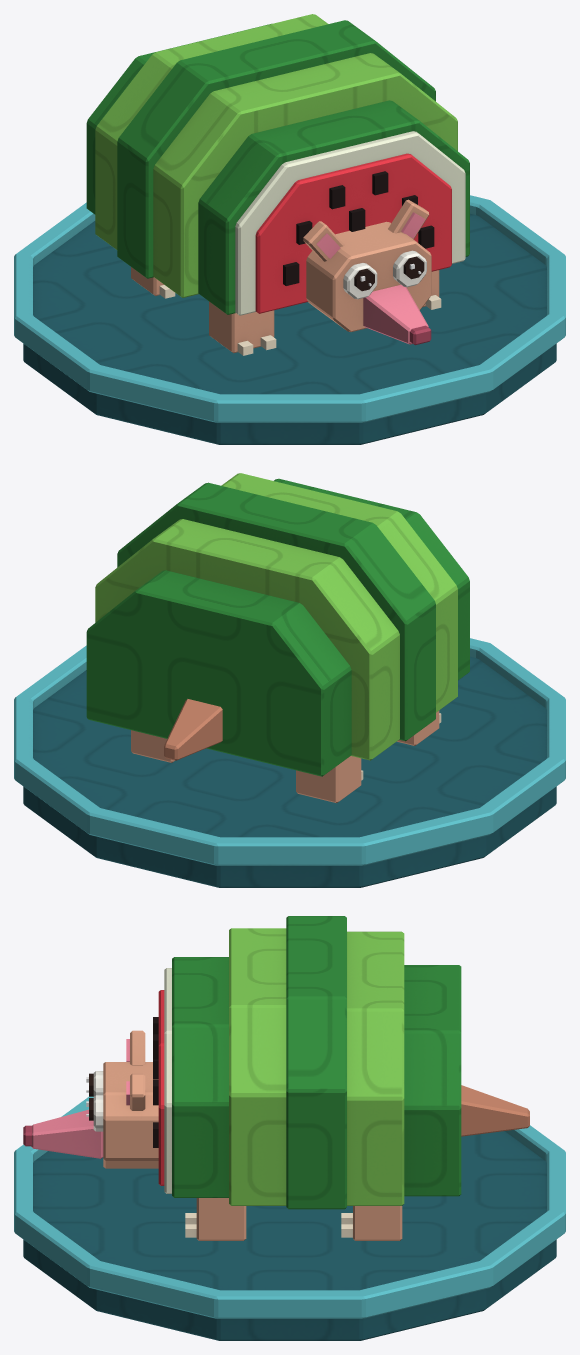
Rendered from MelonArmadillo.fbx.
The picture shows the model from 3 angles, top to bottom: view 1: azimuth 30°, elevation 25°; view 2: azimuth 150°, elevation 25°; view 3: azimuth 270°, elevation 25°; orthographic projection.
Visible parts, largest first — view 1: Art_MelonArmadillo_Body, Art_MelonArmadillo_Stand, Art_MelonArmadillo_Head, Art_MelonArmadillo_LegFL, Art_MelonArmadillo_LegBL; view 2: Art_MelonArmadillo_Body, Art_MelonArmadillo_Stand, Art_MelonArmadillo_Tail, Art_MelonArmadillo_LegBL, Art_MelonArmadillo_LegBR; view 3: Art_MelonArmadillo_Body, Art_MelonArmadillo_Stand, Art_MelonArmadillo_Head, Art_MelonArmadillo_Tail, Art_MelonArmadillo_LegFR, Art_MelonArmadillo_LegBR.
Boxes of the visible parts, x1=… form: Art_MelonArmadillo_Body: x1=86, y1=14, x2=469, y2=315; Art_MelonArmadillo_Stand: x1=14, y1=195, x2=565, y2=444; Art_MelonArmadillo_Head: x1=303, y1=199, x2=431, y2=345; Art_MelonArmadillo_LegFL: x1=209, y1=301, x2=276, y2=355; Art_MelonArmadillo_LegBL: x1=131, y1=267, x2=175, y2=298; Art_MelonArmadillo_Body: x1=86, y1=473, x2=469, y2=776; Art_MelonArmadillo_Stand: x1=14, y1=638, x2=565, y2=887; Art_MelonArmadillo_Tail: x1=164, y1=699, x2=222, y2=760; Art_MelonArmadillo_LegBL: x1=296, y1=756, x2=363, y2=803; Art_MelonArmadillo_LegBR: x1=131, y1=730, x2=174, y2=762; Art_MelonArmadillo_Body: x1=153, y1=916, x2=461, y2=1209; Art_MelonArmadillo_Stand: x1=14, y1=1096, x2=565, y2=1340; Art_MelonArmadillo_Head: x1=23, y1=1030, x2=158, y2=1168; Art_MelonArmadillo_Tail: x1=461, y1=1085, x2=529, y2=1136; Art_MelonArmadillo_LegFR: x1=185, y1=1198, x2=246, y2=1240; Art_MelonArmadillo_LegBR: x1=341, y1=1206, x2=402, y2=1240.
Bounding box in the file's own units: 2.9 × 1.58 × 2.9.
